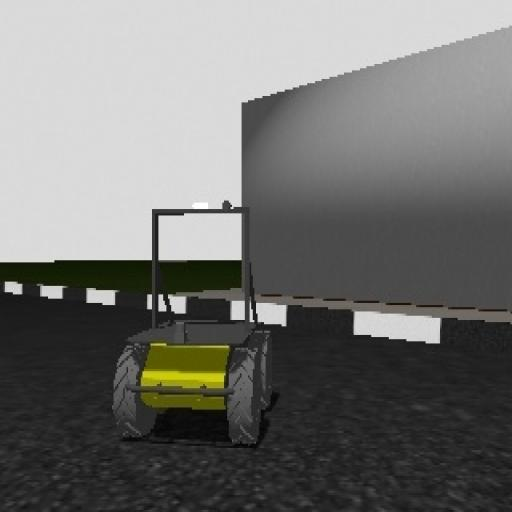huskya200: (110, 185, 294, 451)
